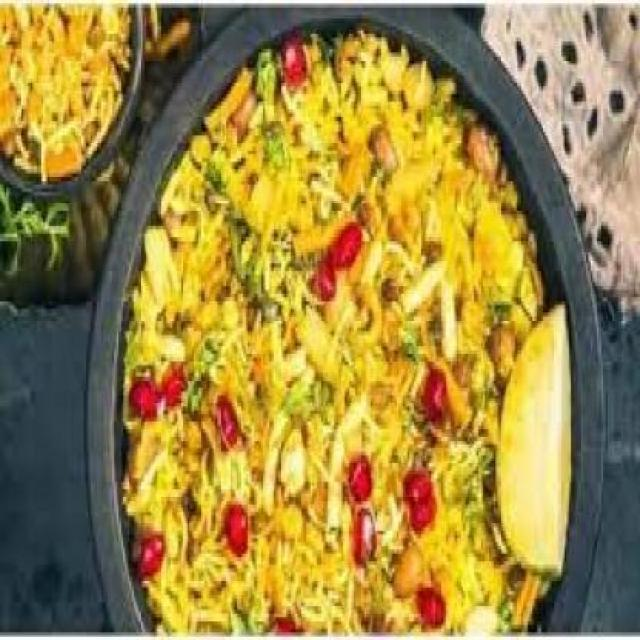poha: (123, 31, 572, 634), (0, 0, 129, 180)
